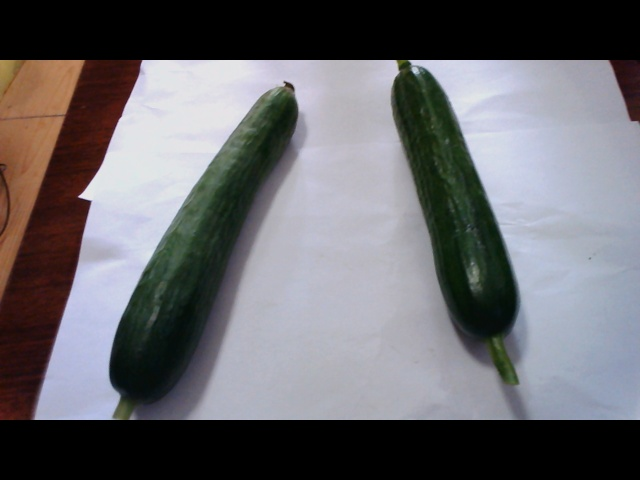cucumber: (105, 81, 297, 404), (367, 60, 525, 381)
